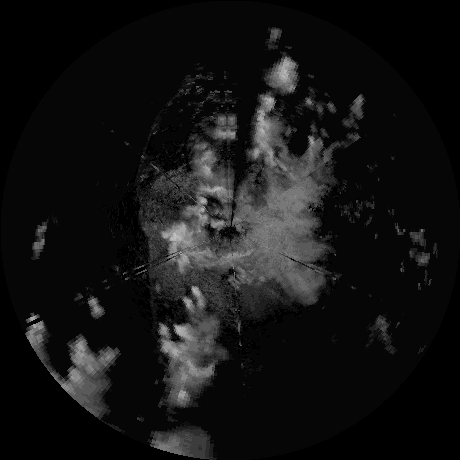frontgust: (137, 85, 183, 190)
